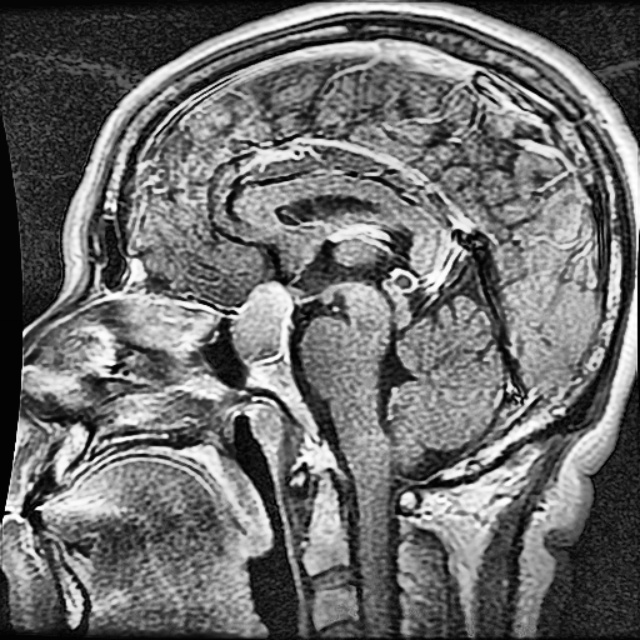Pituitary: (230, 280, 293, 363)
